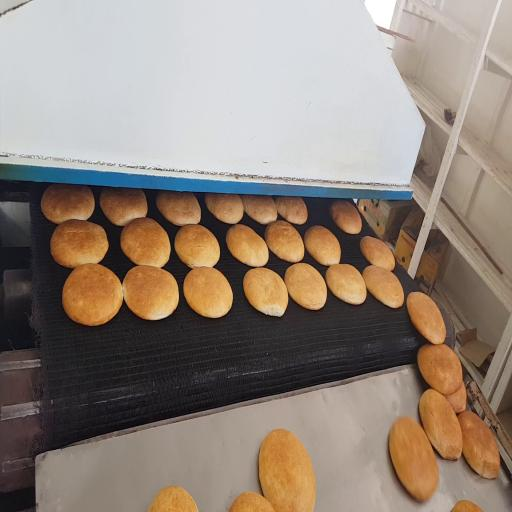bread: (259, 430, 315, 511), (390, 417, 438, 501), (63, 264, 122, 325), (419, 389, 462, 459), (123, 266, 178, 319), (51, 220, 108, 268), (459, 412, 500, 478), (184, 267, 233, 318), (121, 218, 170, 267), (418, 344, 462, 395), (41, 184, 94, 224), (244, 268, 288, 316), (407, 292, 446, 344), (175, 225, 220, 268), (285, 263, 326, 310), (100, 188, 147, 226), (226, 224, 268, 266), (363, 266, 404, 308), (265, 220, 304, 262), (326, 264, 366, 304), (156, 191, 201, 226), (304, 226, 340, 266), (360, 236, 395, 270), (205, 193, 243, 224), (148, 487, 197, 511), (330, 200, 362, 234), (242, 195, 277, 224), (275, 197, 307, 224), (230, 492, 274, 511), (446, 382, 466, 413), (452, 501, 482, 511)
